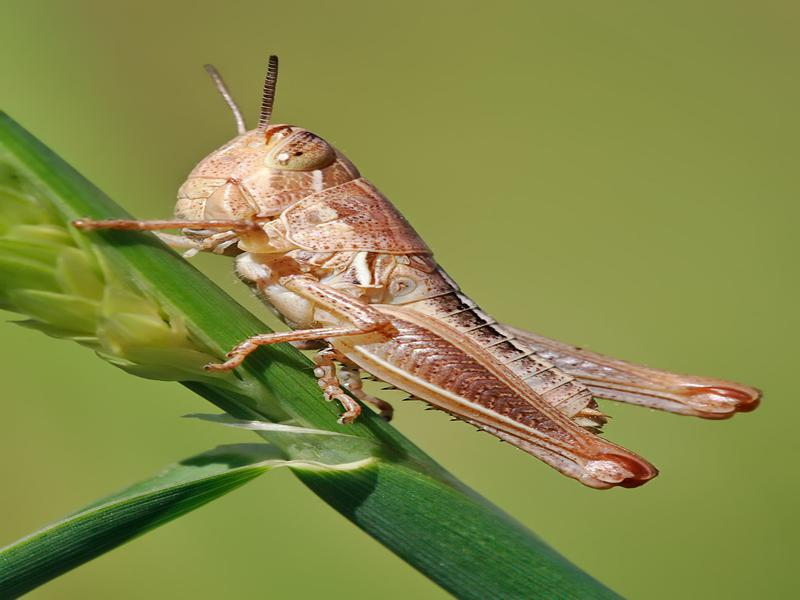Grasshopper: (135, 105, 773, 502)
